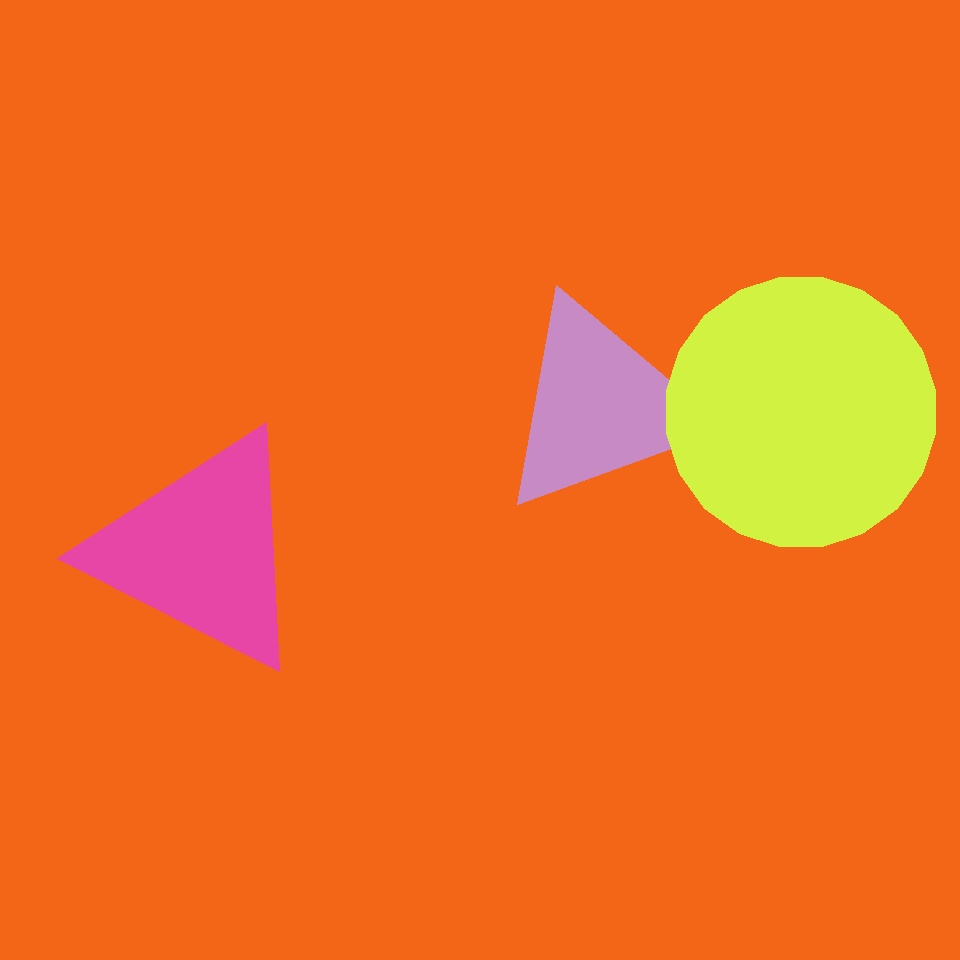circle: (90, 426, 312, 676), (318, 290, 535, 509), (496, 296, 704, 516)
square: (16, 277, 187, 448), (460, 421, 581, 542), (254, 752, 360, 857)
triangle: (233, 423, 569, 759), (666, 278, 936, 546), (792, 437, 898, 542)
